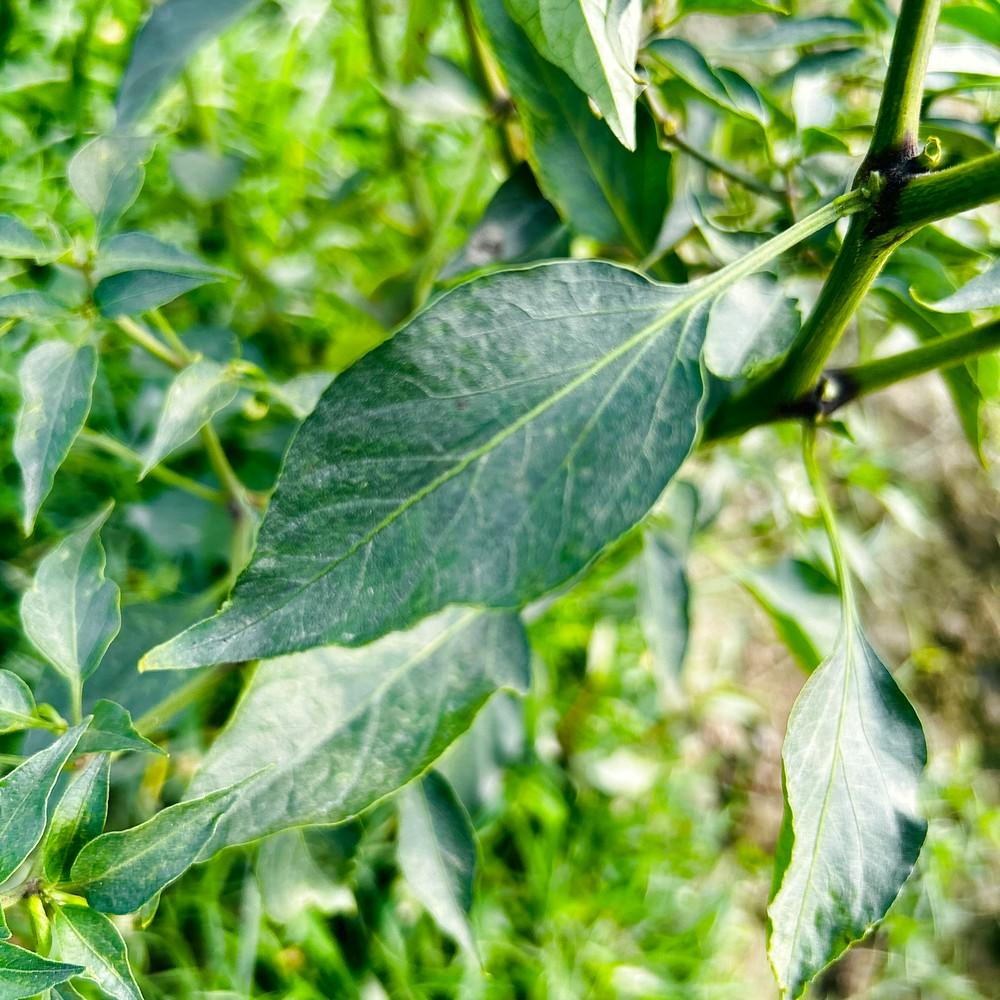Daun Cabai Sehat: (140, 259, 709, 681), (768, 635, 933, 1000), (74, 780, 256, 917)
